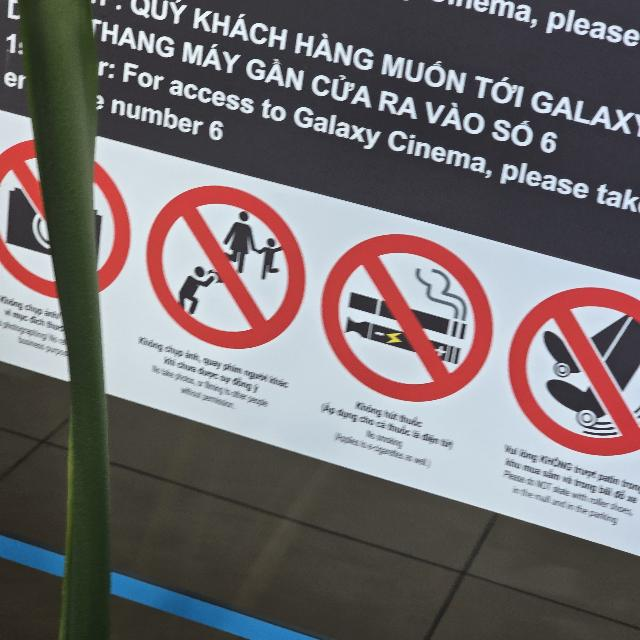cam hut thuoc: (322, 235, 492, 401)
